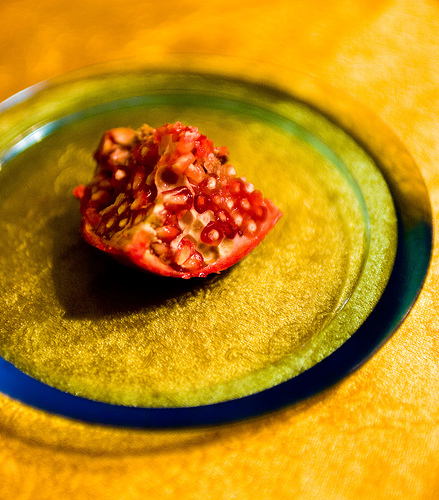pomogranate: (66, 117, 286, 295)
